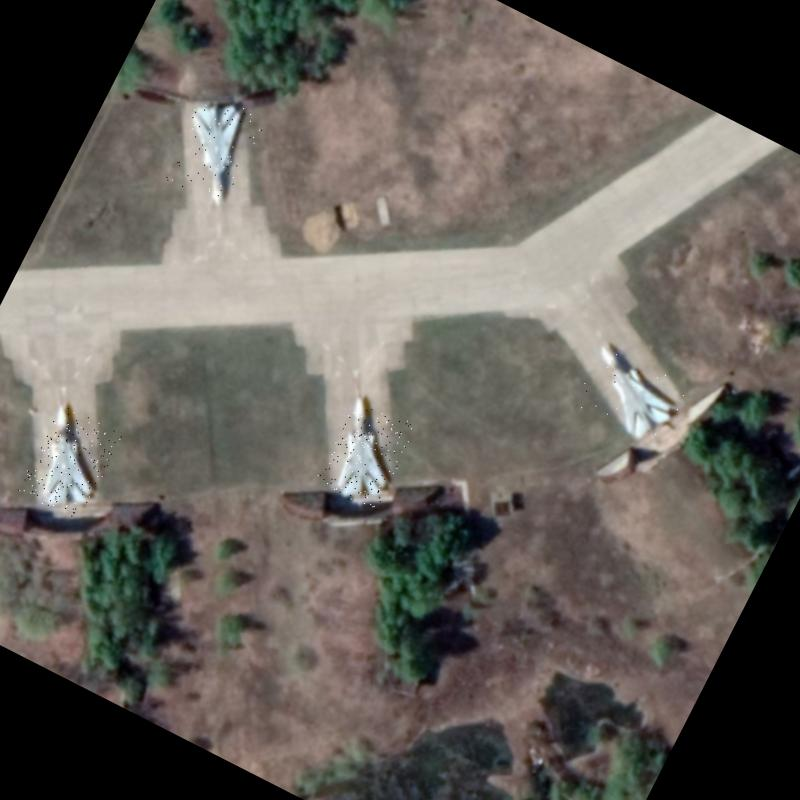A20: (158, 87, 267, 210), (570, 342, 688, 450), (313, 394, 419, 514), (16, 404, 123, 522)
